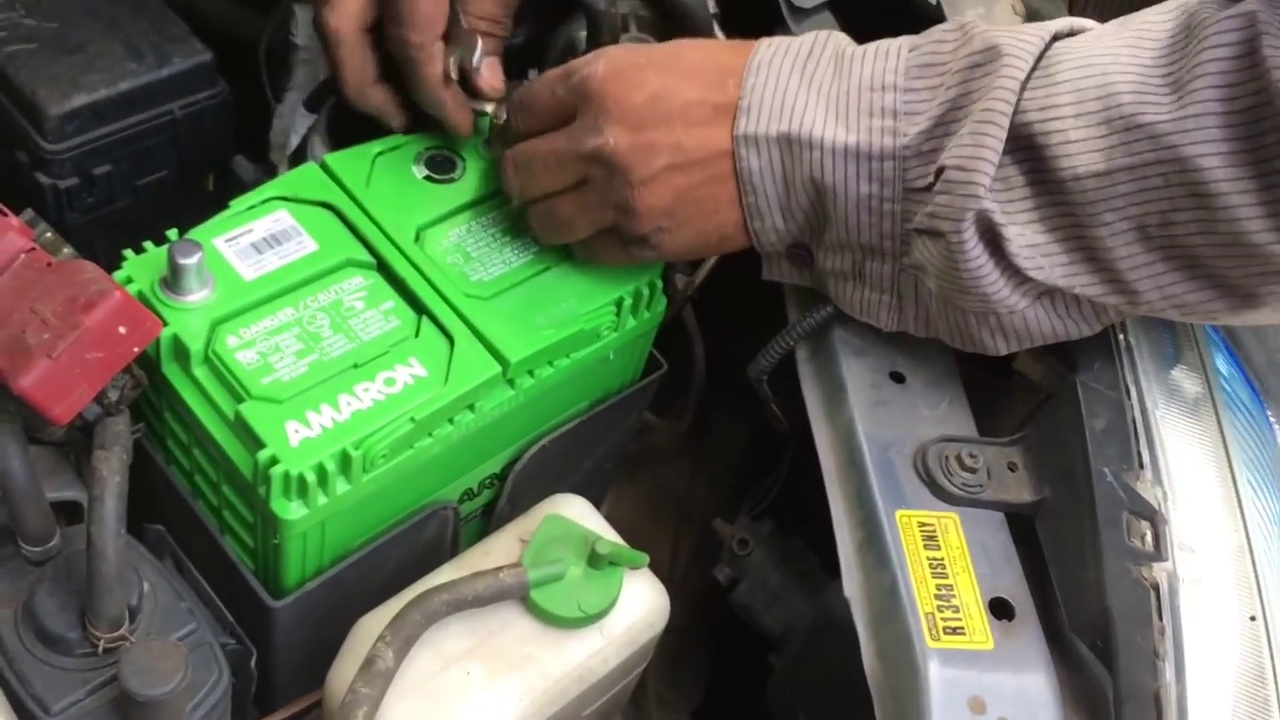battery: (124, 96, 658, 476)
neg_touched: (407, 3, 597, 194)
pos_disconnected: (35, 205, 239, 354)
